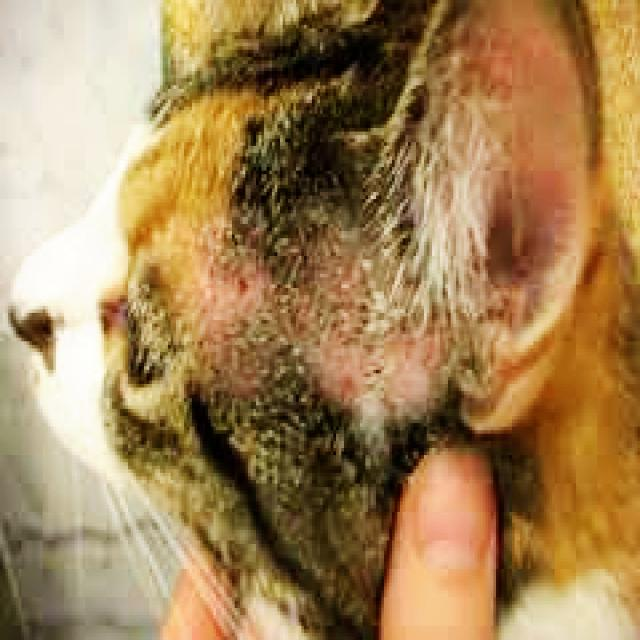ringworm: (164, 245, 291, 336), (332, 348, 404, 401)
